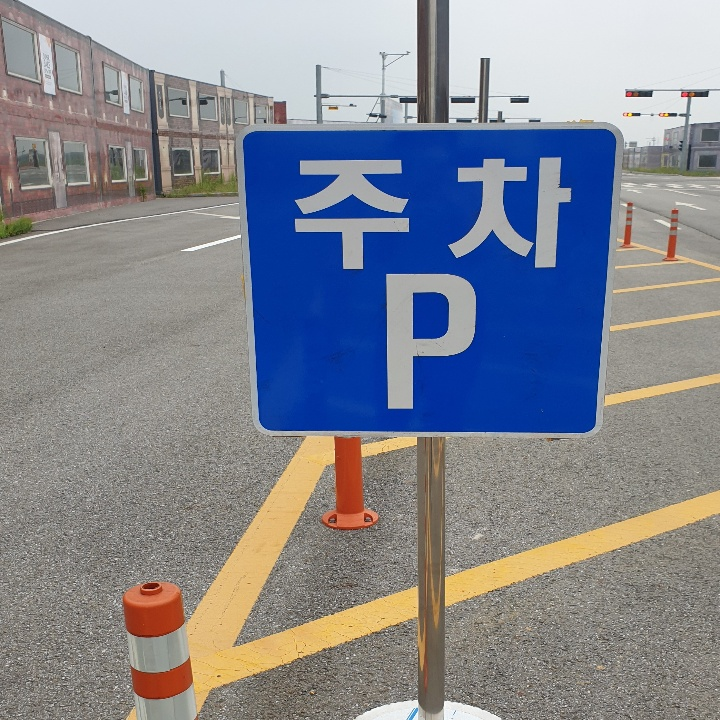parking: (371, 259, 487, 418)
